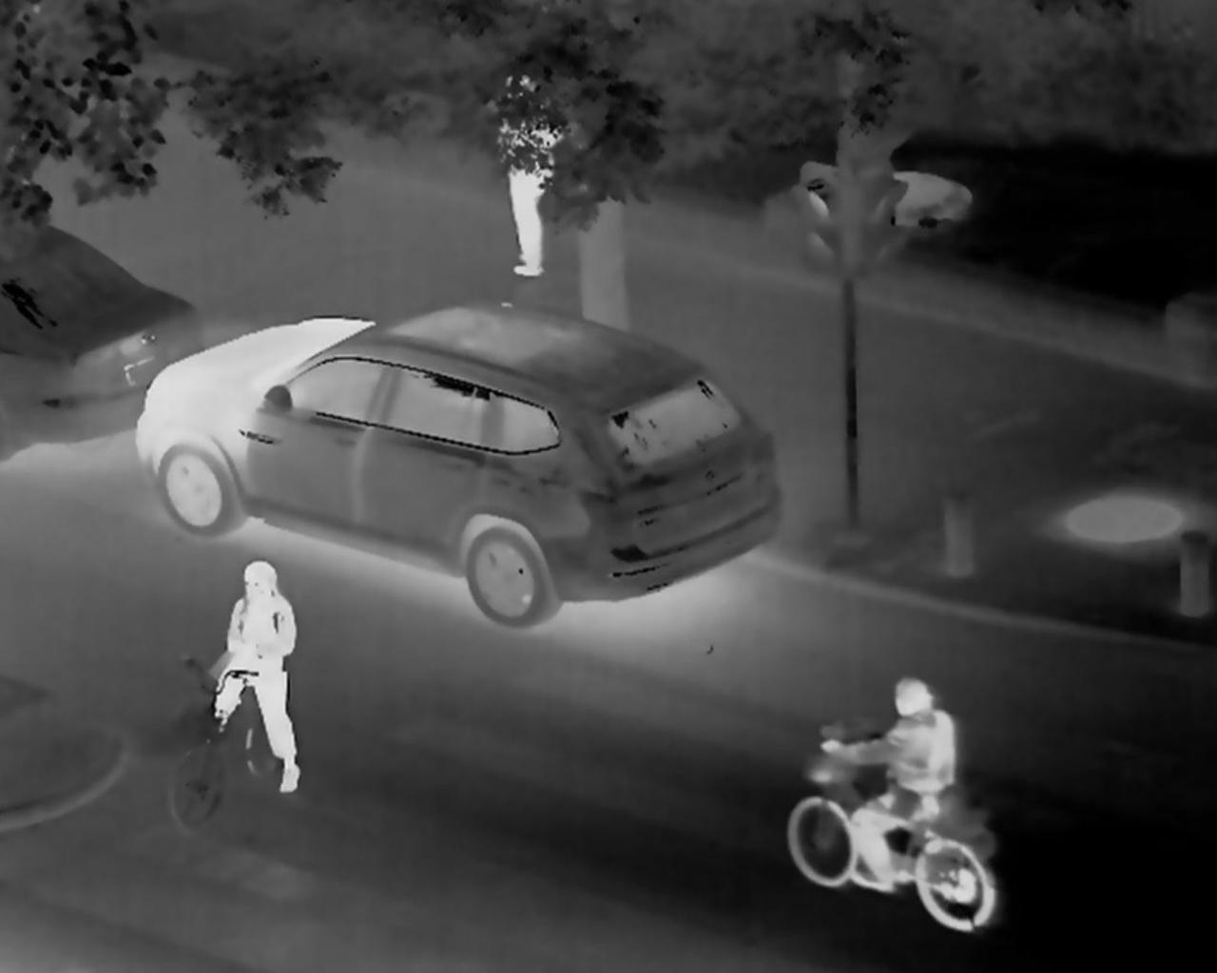person: (819, 676, 959, 897), (205, 553, 307, 797), (493, 66, 563, 281)
